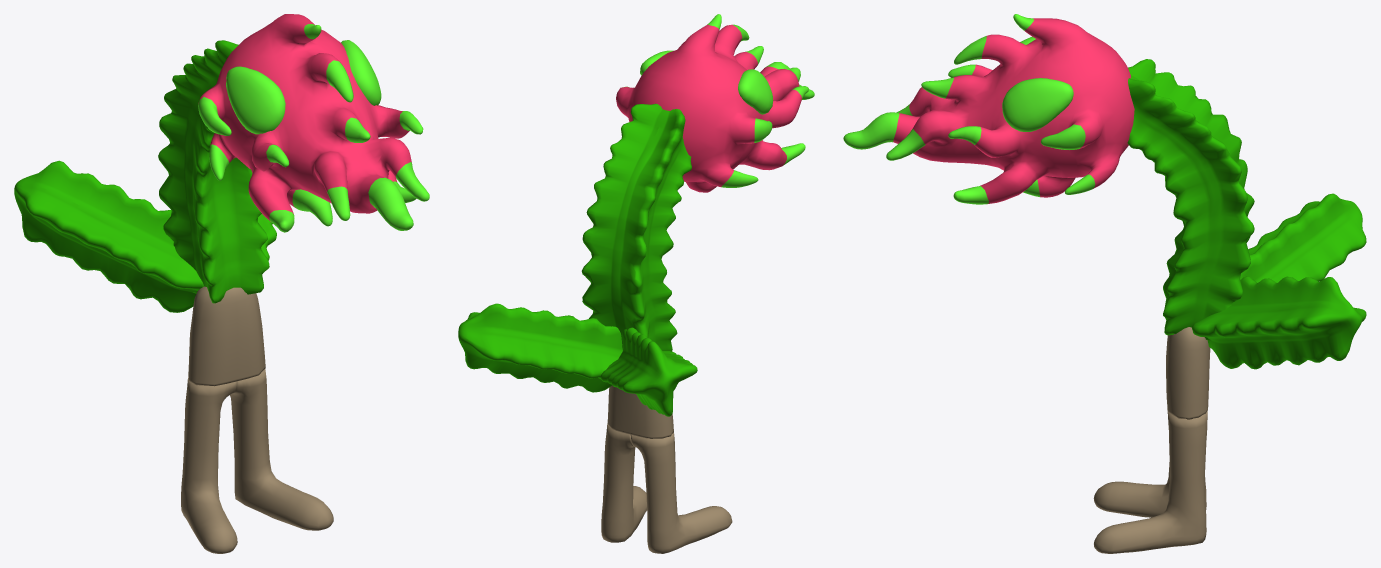
3 views of the same model, side by side, from view 1: azimuth 30°, elevation 25°; view 2: azimuth 150°, elevation 25°; view 3: azimuth 270°, elevation 25° (orthographic). The views are drawn at different scales.
Parts seen in each view (by area): view 1: head_red, neck, tails, head_green, legs1, legs2, torso, eyelids; view 2: neck, head_red, tails, legs2, legs1, torso, head_green, eyelids; view 3: head_red, neck, tails, legs1, head_green, torso, eyelids, legs2.
Part boxes in pixels (bbox=[...]): head_red: bbox=[198, 14, 411, 221]; neck: bbox=[158, 40, 269, 303]; tails: bbox=[14, 160, 276, 312]; head_green: bbox=[198, 24, 429, 232]; legs1: bbox=[230, 369, 333, 530]; legs2: bbox=[181, 378, 237, 553]; torso: bbox=[188, 286, 265, 386]; eyelids: bbox=[226, 40, 381, 134]; neck: bbox=[581, 103, 691, 351]; head_red: bbox=[616, 24, 802, 192]; tails: bbox=[458, 303, 697, 416]; legs2: bbox=[630, 432, 732, 553]; legs1: bbox=[601, 423, 646, 542]; torso: bbox=[607, 385, 673, 438]; head_green: bbox=[624, 14, 814, 187]; eyelids: bbox=[640, 50, 773, 114]; head_red: bbox=[893, 18, 1134, 204]; neck: bbox=[1127, 59, 1254, 340]; tails: bbox=[1192, 193, 1366, 369]; legs1: bbox=[1094, 408, 1207, 553]; head_green: bbox=[843, 14, 1095, 204]; torso: bbox=[1166, 327, 1210, 419]; eyelids: bbox=[1002, 36, 1073, 131]; legs2: bbox=[1093, 462, 1206, 517].
Size of the model in its own units: 401 by 799 by 736.
